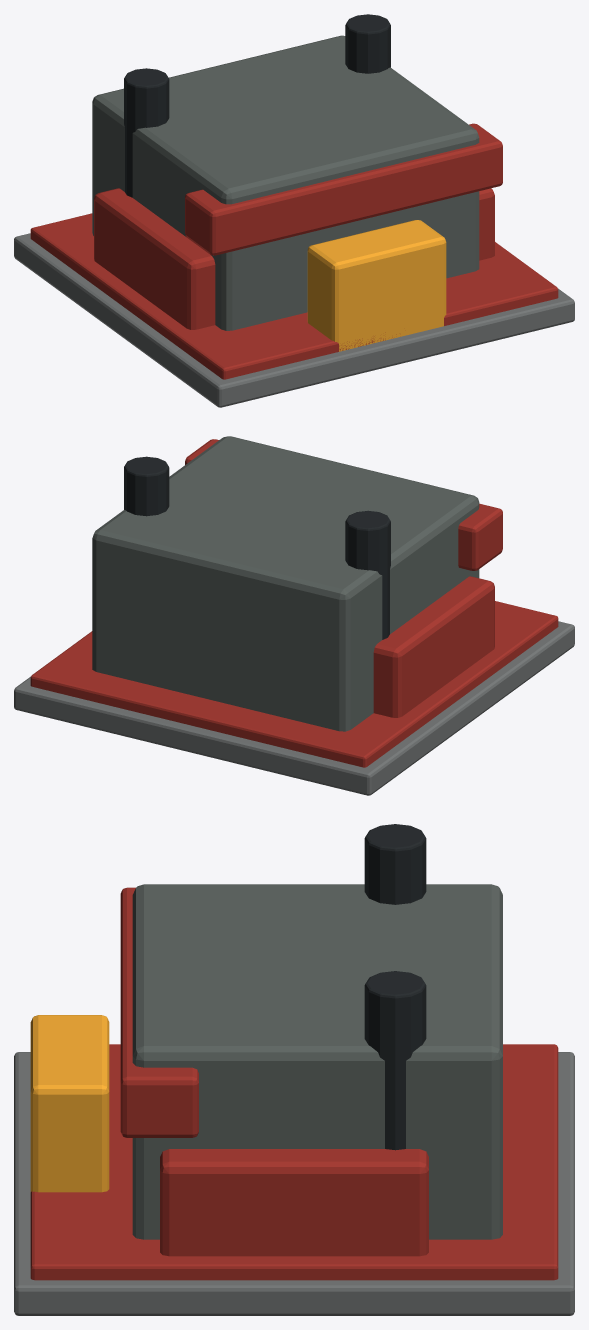
File: SM_Soviet_SU_Barracks.fbx
3 views of the same model, one above another, from view 1: azimuth 30°, elevation 25°; view 2: azimuth 150°, elevation 25°; view 3: azimuth 270°, elevation 25° (orthographic). The views are drawn at different scales.
Visible parts, largest first — view 1: SM_Soviet_SU_Barracks_MainMass, SM_Soviet_SU_Barracks_FoundationTrim, SM_Soviet_SU_Barracks, SM_Soviet_SU_Barracks_ArmourBrow, SM_Soviet_SU_Barracks_Entrance, SM_Soviet_SU_Barracks_BunkerWing_-1, SM_Soviet_SU_Barracks_Exhaust_-1, SM_Soviet_SU_Barracks_Exhaust_+1, SM_Soviet_SU_Barracks_BunkerWing_+1; view 2: SM_Soviet_SU_Barracks_MainMass, SM_Soviet_SU_Barracks_FoundationTrim, SM_Soviet_SU_Barracks, SM_Soviet_SU_Barracks_BunkerWing_-1, SM_Soviet_SU_Barracks_Exhaust_-1, SM_Soviet_SU_Barracks_ArmourBrow, SM_Soviet_SU_Barracks_Exhaust_+1; view 3: SM_Soviet_SU_Barracks_MainMass, SM_Soviet_SU_Barracks_FoundationTrim, SM_Soviet_SU_Barracks_BunkerWing_+1, SM_Soviet_SU_Barracks, SM_Soviet_SU_Barracks_Entrance, SM_Soviet_SU_Barracks_ArmourBrow, SM_Soviet_SU_Barracks_Exhaust_+1, SM_Soviet_SU_Barracks_Exhaust_-1.
Boxes of the visible parts, bbox=[...] form: SM_Soviet_SU_Barracks_MainMass: bbox=[92, 35, 479, 330]; SM_Soviet_SU_Barracks_FoundationTrim: bbox=[30, 213, 558, 379]; SM_Soviet_SU_Barracks: bbox=[14, 233, 574, 407]; SM_Soviet_SU_Barracks_ArmourBrow: bbox=[185, 123, 502, 255]; SM_Soviet_SU_Barracks_Entrance: bbox=[307, 220, 446, 351]; SM_Soviet_SU_Barracks_BunkerWing_-1: bbox=[94, 188, 215, 329]; SM_Soviet_SU_Barracks_Exhaust_-1: bbox=[124, 68, 169, 197]; SM_Soviet_SU_Barracks_Exhaust_+1: bbox=[345, 14, 390, 73]; SM_Soviet_SU_Barracks_BunkerWing_+1: bbox=[479, 188, 494, 260]; SM_Soviet_SU_Barracks_MainMass: bbox=[92, 436, 479, 731]; SM_Soviet_SU_Barracks_FoundationTrim: bbox=[30, 601, 558, 767]; SM_Soviet_SU_Barracks: bbox=[14, 621, 574, 795]; SM_Soviet_SU_Barracks_BunkerWing_-1: bbox=[373, 576, 494, 717]; SM_Soviet_SU_Barracks_Exhaust_-1: bbox=[345, 510, 390, 639]; SM_Soviet_SU_Barracks_ArmourBrow: bbox=[185, 439, 502, 570]; SM_Soviet_SU_Barracks_Exhaust_+1: bbox=[124, 456, 169, 516]; SM_Soviet_SU_Barracks_MainMass: bbox=[132, 884, 502, 1239]; SM_Soviet_SU_Barracks_FoundationTrim: bbox=[30, 1044, 558, 1280]; SM_Soviet_SU_Barracks_BunkerWing_+1: bbox=[160, 1149, 428, 1256]; SM_Soviet_SU_Barracks: bbox=[14, 1052, 574, 1315]; SM_Soviet_SU_Barracks_Entrance: bbox=[30, 1015, 109, 1192]; SM_Soviet_SU_Barracks_ArmourBrow: bbox=[120, 887, 198, 1137]; SM_Soviet_SU_Barracks_Exhaust_+1: bbox=[364, 971, 426, 1150]; SM_Soviet_SU_Barracks_Exhaust_-1: bbox=[364, 824, 426, 904].
Size of what is drawn, in the model's own units: 600 by 600 by 342.
